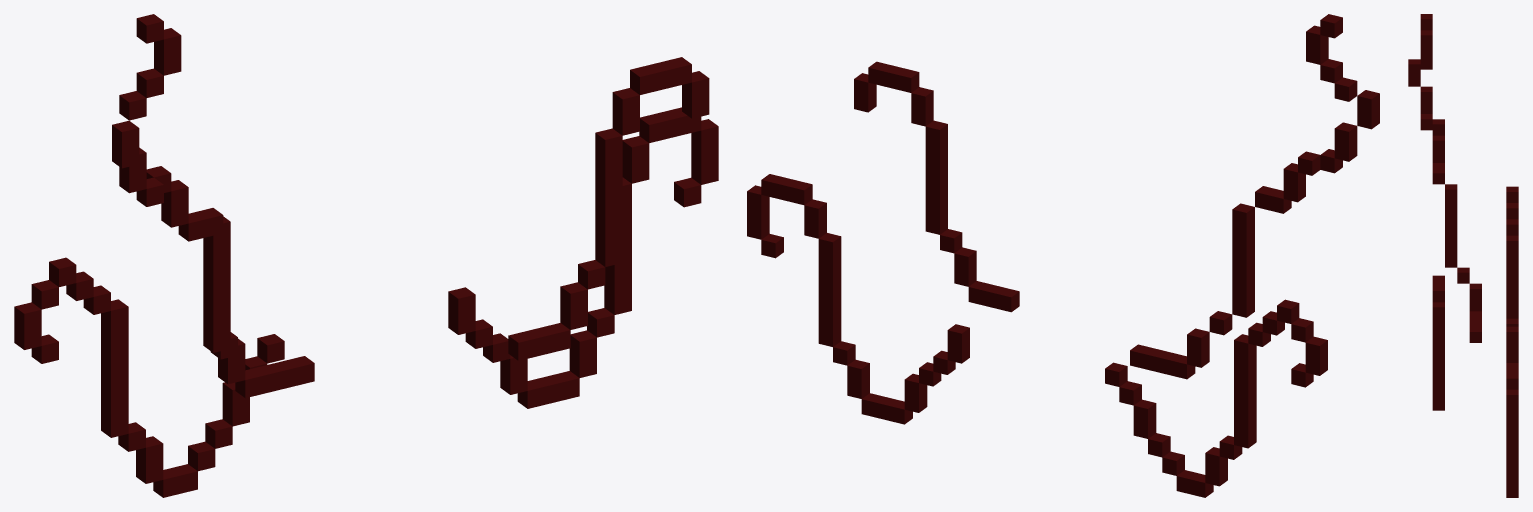
File: Nung Rum New Head_4.fbx
The picture shows the model from 3 angles, left to right: view 1: azimuth 30°, elevation 25°; view 2: azimuth 150°, elevation 25°; view 3: azimuth 270°, elevation 25°; orthographic projection. The views are drawn at different scales.
Parts seen in each view (by area): view 1: Nung Rum New Head_4.001; view 2: Nung Rum New Head_4.001; view 3: Nung Rum New Head_4.001.
Part boxes in pixels (x1,y1,x2,y2): Nung Rum New Head_4.001: [14, 14, 718, 497]; Nung Rum New Head_4.001: [747, 14, 1379, 497]; Nung Rum New Head_4.001: [1408, 14, 1518, 497].
Size of the model in its own units: 4 by 3 by 0.9.
Materials: 1 (1 with a texture image).
